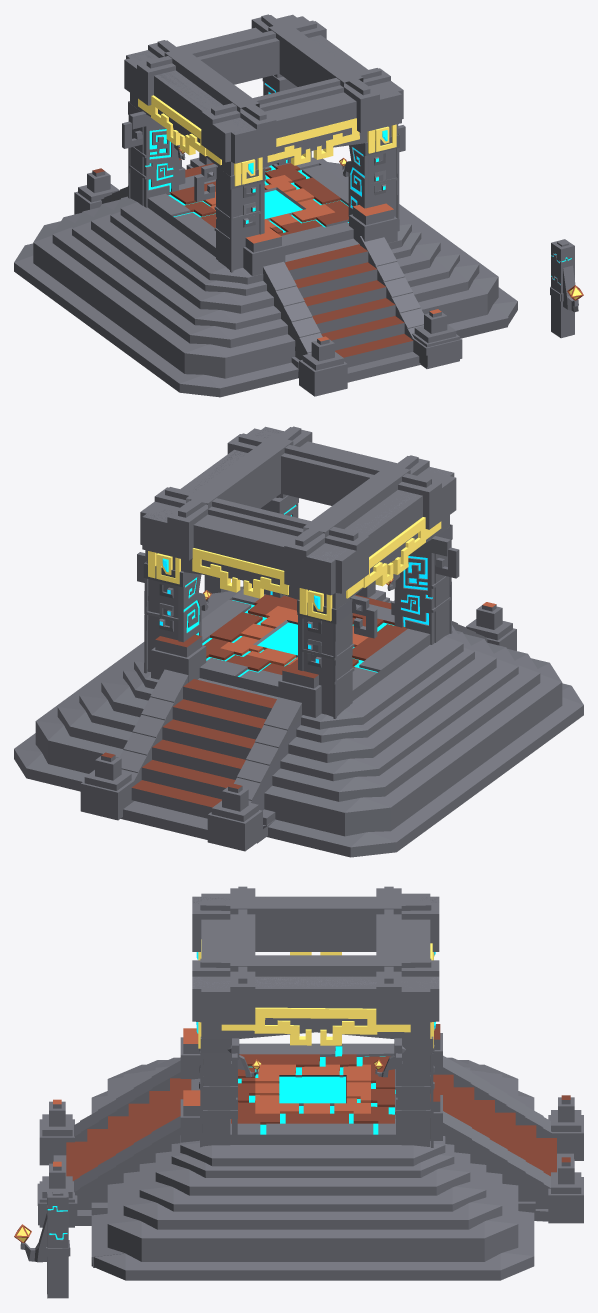
Rendered from Temple_Maka.fbx.
3 views of the same model, one above another, from view 1: azimuth 30°, elevation 25°; view 2: azimuth 150°, elevation 25°; view 3: azimuth 270°, elevation 25° (orthographic). The views are drawn at different scales.
Parts seen in each view (by area): view 1: piramide, COLONNE, Escalier, colonne fresque, Cube escalier, Rambarde, torche, escalier, ornement.001, ornement, ornement02.001; view 2: piramide, COLONNE, escalier, colonne fresque, ornement.001, ornement, Cube escalier, ornement02; view 3: piramide, COLONNE, escalier, Rambarde, Cube escalier, Escalier, colonne fresque, ornement, torche.
Part boxes in pixels (left/top/right/bottom): piramide: left=14, top=157, right=517, bottom=397; COLONNE: left=124, top=14, right=403, bottom=270; Escalier: left=285, top=244, right=413, bottom=367; colonne fresque: left=122, top=75, right=405, bottom=272; Cube escalier: left=243, top=203, right=462, bottom=396; Rambarde: left=263, top=236, right=423, bottom=360; torche: left=550, top=239, right=583, bottom=338; escalier: left=74, top=152, right=213, bottom=214; ornement.001: left=267, top=118, right=359, bottom=165; ornement: left=138, top=95, right=221, bottom=165; ornement02.001: left=234, top=124, right=396, bottom=186; piramide: left=14, top=586, right=583, bottom=857; COLONNE: left=140, top=426, right=456, bottom=716; escalier: left=80, top=634, right=321, bottom=851; colonne fresque: left=137, top=495, right=459, bottom=718; ornement.001: left=192, top=548, right=289, bottom=598; ornement: left=346, top=517, right=441, bottom=598; Cube escalier: left=356, top=580, right=516, bottom=650; ornement02: left=148, top=551, right=332, bottom=621; piramide: left=53, top=1043, right=573, bottom=1280; COLONNE: left=192, top=886, right=439, bottom=1146; escalier: left=430, top=1024, right=583, bottom=1223; Rambarde: left=73, top=1060, right=180, bottom=1209; Cube escalier: left=37, top=1028, right=200, bottom=1227; Escalier: left=66, top=1078, right=191, bottom=1180; colonne fresque: left=199, top=1036, right=434, bottom=1147; ornement: left=221, top=952, right=410, bottom=1045; torche: left=14, top=1189, right=70, bottom=1298.
Bounding box in the file's own units: 1338 × 812 × 1611.
